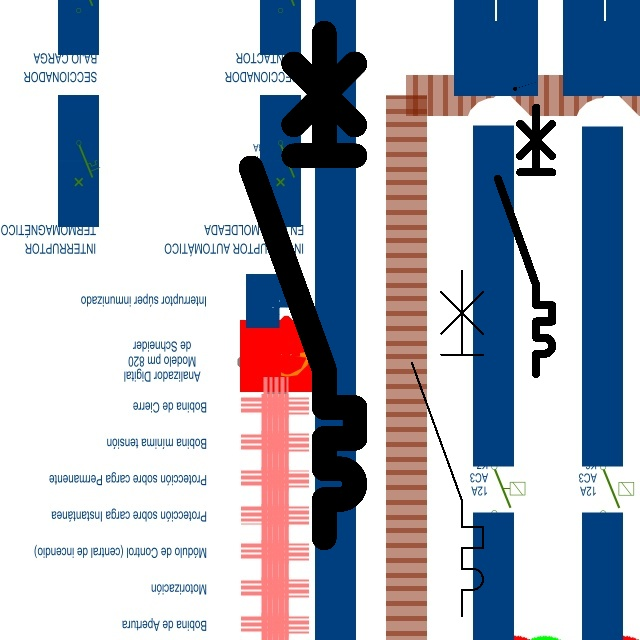interruptor_termomagnetico: (238, 20, 368, 551), (403, 262, 492, 625), (491, 100, 559, 380)
